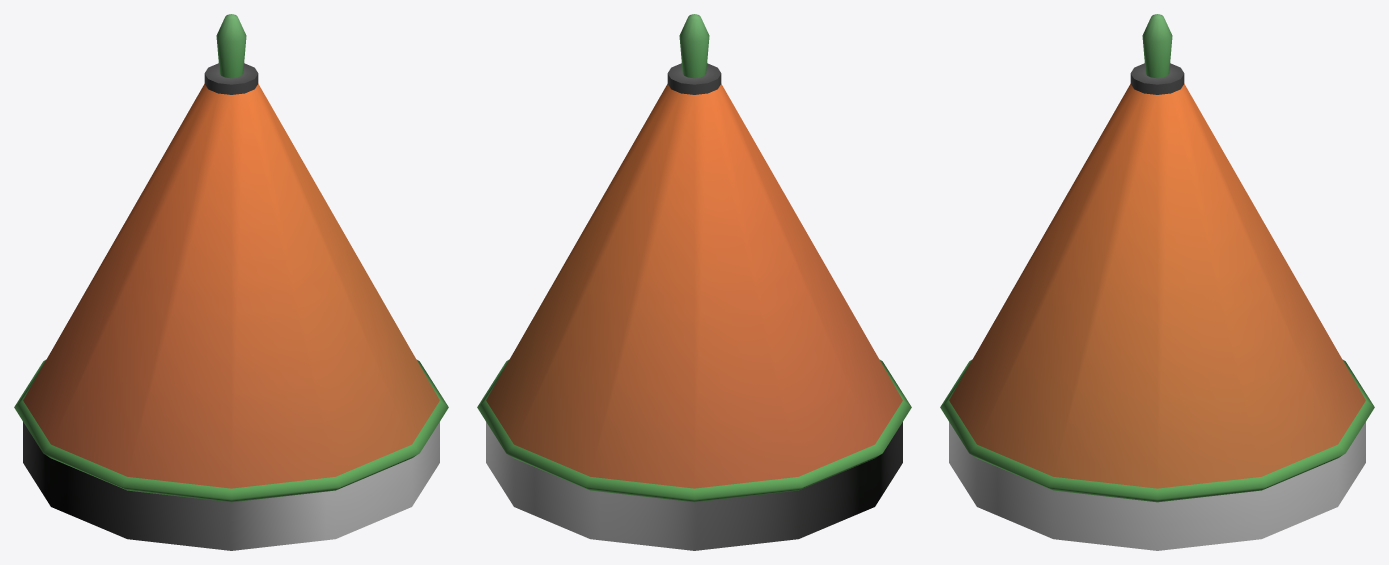
The model's file is Buoy_Cone_C.fbx.
The picture shows the model from 3 angles, left to right: view 1: azimuth 30°, elevation 25°; view 2: azimuth 150°, elevation 25°; view 3: azimuth 270°, elevation 25°; orthographic projection.
Visible parts, largest first — view 1: Buoy_Cone_C; view 2: Buoy_Cone_C; view 3: Buoy_Cone_C.
Part boxes in pixels (box(x1,y1,x2,y2)): Buoy_Cone_C: box(14, 14, 448, 550); Buoy_Cone_C: box(477, 14, 911, 550); Buoy_Cone_C: box(940, 14, 1374, 550).
Bounding box in the file's own units: 82.47 × 98.14 × 82.47.
